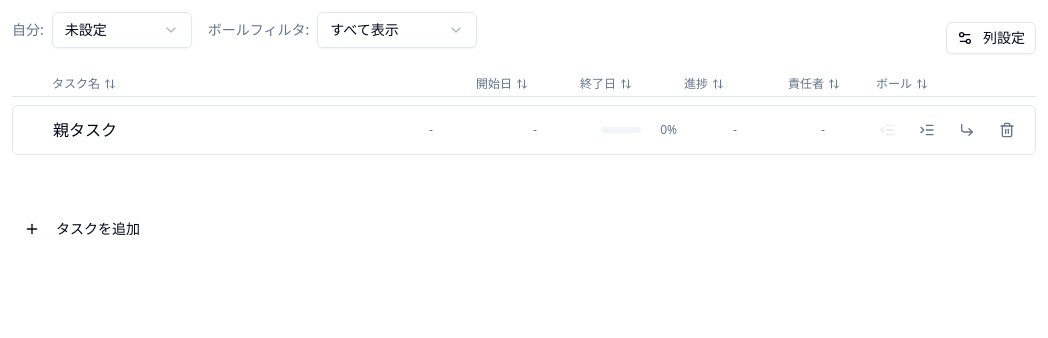
Test: TaskList › サブタスク追加のインライン入力 › 追加後も入力フィールドが残り連続追加できる
The image size is (1048, 338).
Click the button named "サブタスクを追加": x=967, y=130 [951, 114, 983, 146]
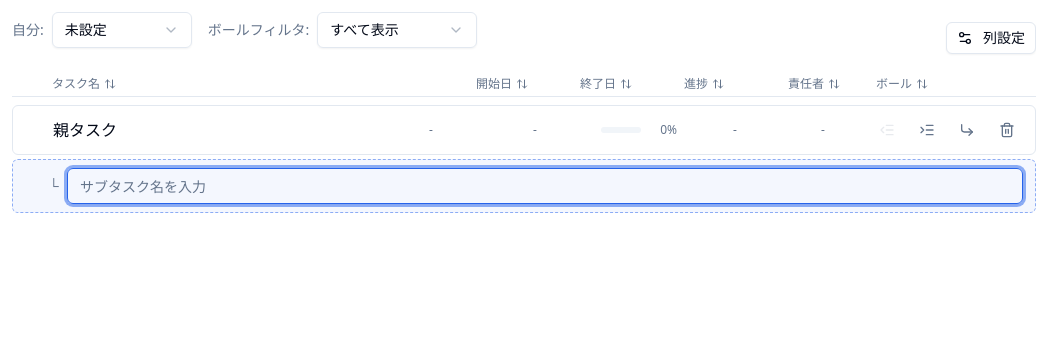
# 1つ目のサブタスクを追加
In the field with placeholder "サブタスク名を入力": x=545, y=186 [67, 168, 1023, 204], type "サブタスク1"
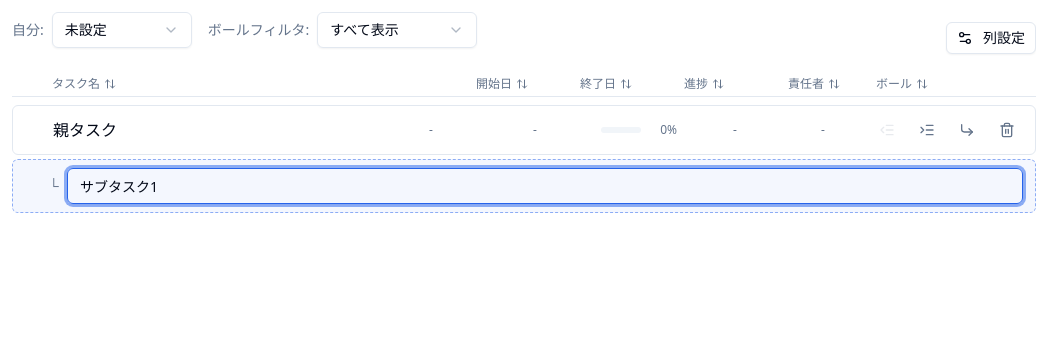
Press Enter
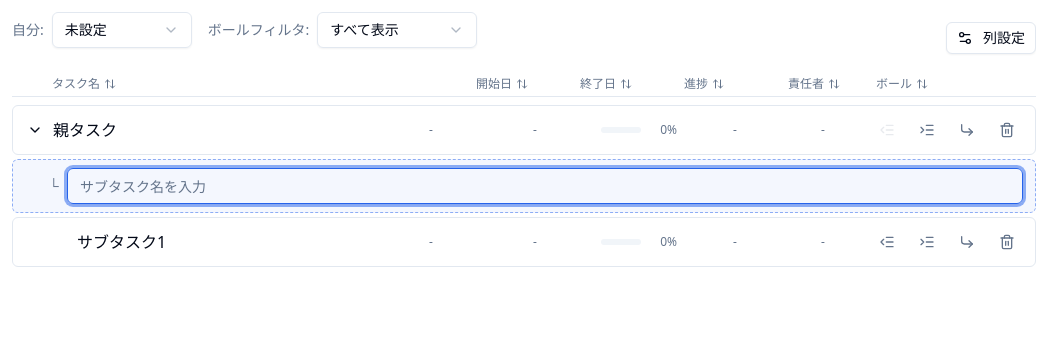
Expected: the field with placeholder "サブタスク名を入力" is shown
Expected: the field with placeholder "サブタスク名を入力" is empty
# 2つ目のサブタスクを追加
In the field with placeholder "サブタスク名を入力": x=545, y=186 [67, 168, 1023, 204], type "サブタスク2"
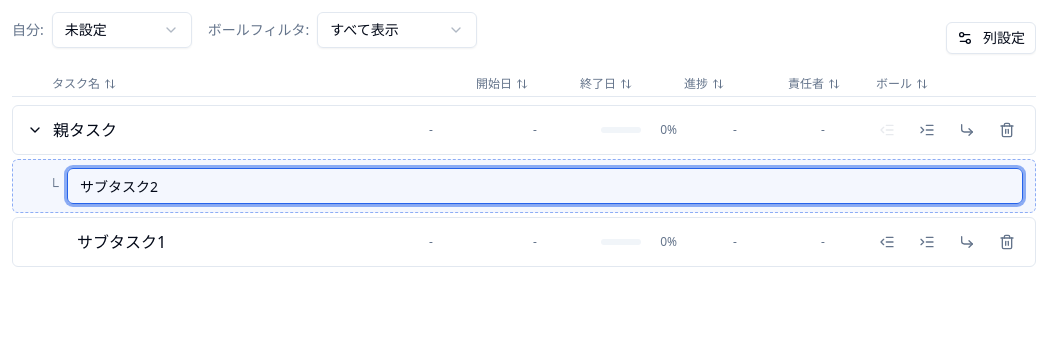
Press Enter
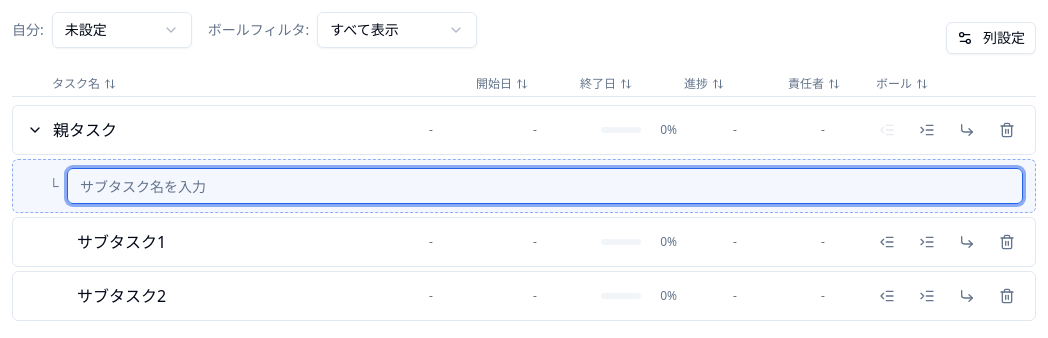
Expected: the text "サブタスク1" is shown, [77, 231, 166, 253]
Expected: the text "サブタスク2" is shown, [77, 285, 166, 307]
